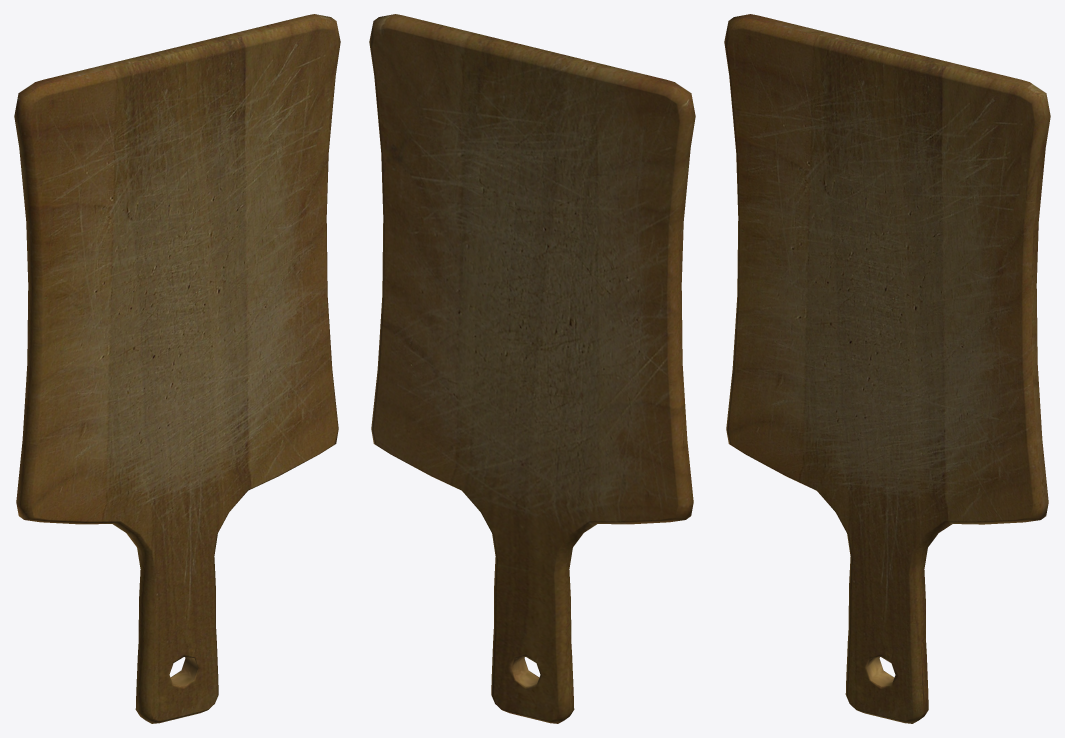
File: ChoppingBoard.FBX
The picture shows the model from 3 angles, left to right: view 1: azimuth 30°, elevation 25°; view 2: azimuth 150°, elevation 25°; view 3: azimuth 330°, elevation 25°; orthographic projection.
Parts seen in each view (by area): view 1: ChoppingBoard; view 2: ChoppingBoard; view 3: ChoppingBoard.
Part boxes in pixels (x1,y1,x2,y2): ChoppingBoard: (14,14,340,723); ChoppingBoard: (369,14,695,723); ChoppingBoard: (724,14,1050,723).
Size of what is drawn, in the model's own units: 2.59 by 0.1839 by 5.14.
